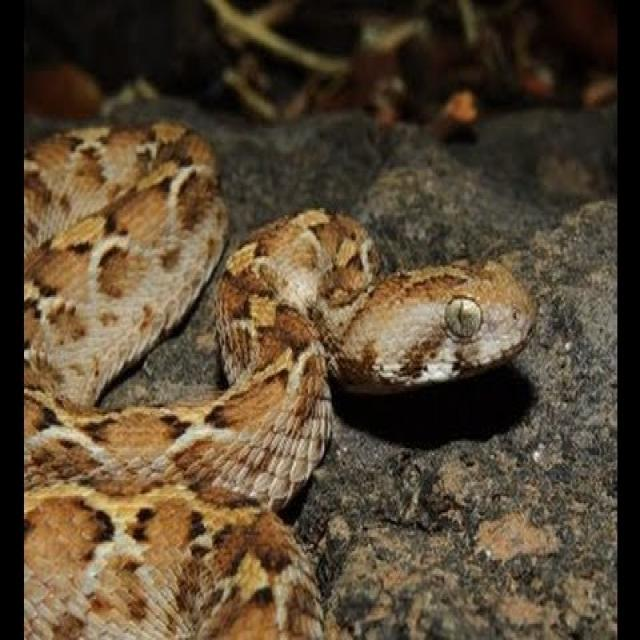Snake: (21, 114, 538, 638)
